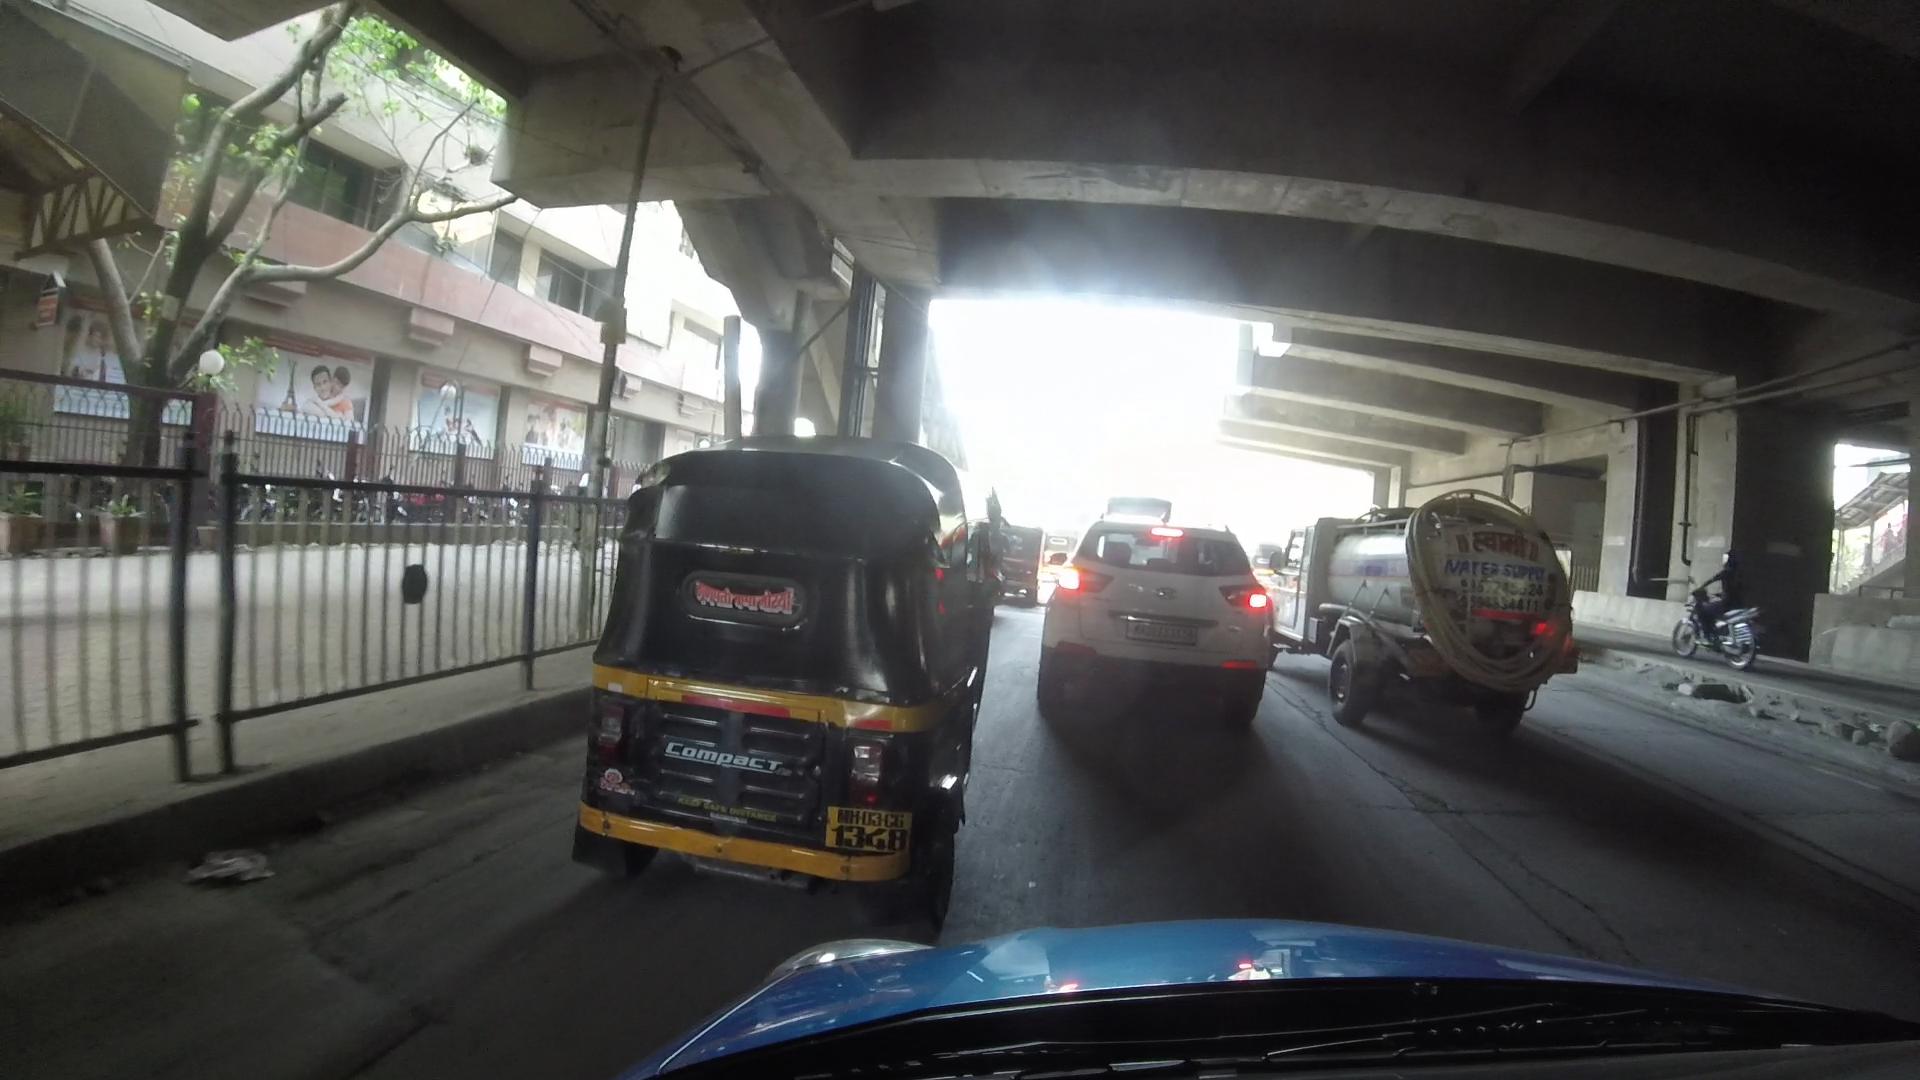bike/scooter: (1660, 560, 1768, 678)
car: (1018, 481, 1298, 737)
rickshaw: (542, 407, 982, 924)
truck: (1304, 495, 1586, 764)
